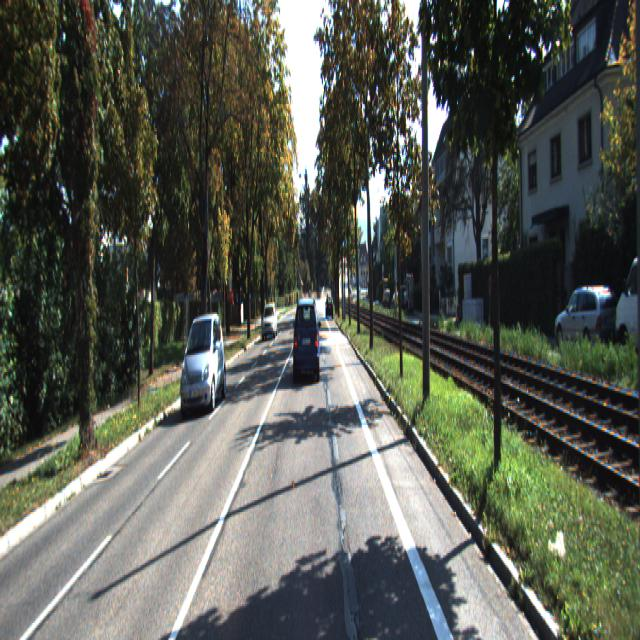Car: (180, 311, 227, 418), (555, 280, 622, 351), (615, 249, 639, 355), (293, 306, 321, 394), (262, 303, 278, 340)
